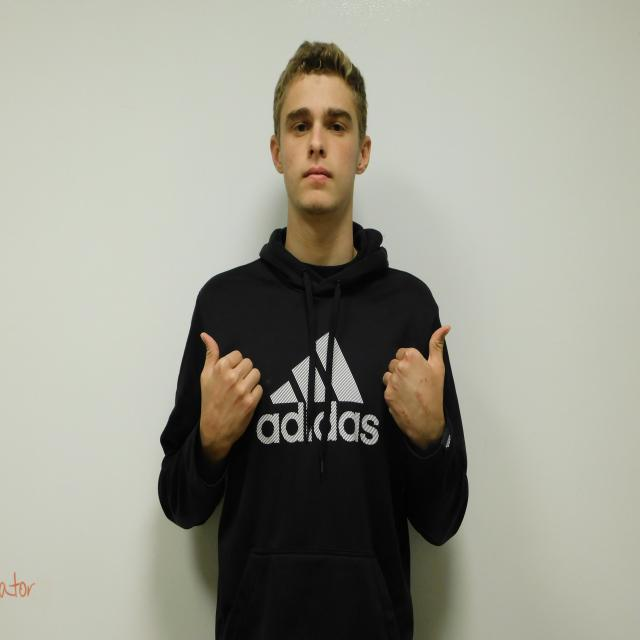have: (200, 326, 450, 442)
